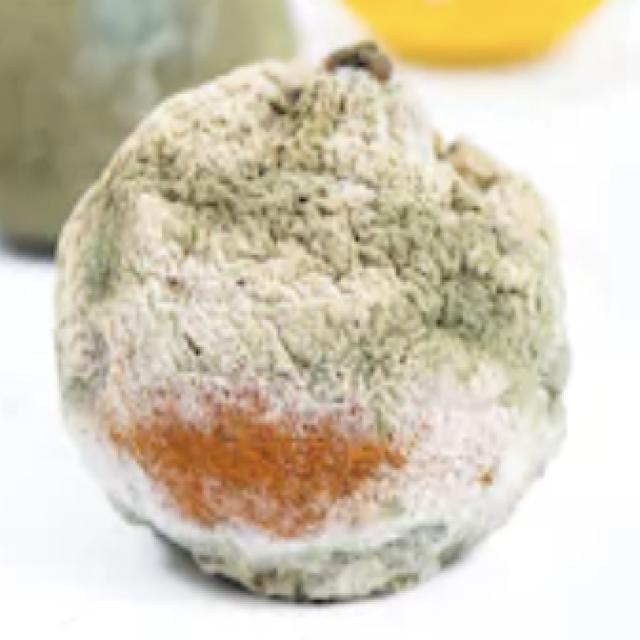sangat-busuk: (54, 41, 569, 601)
